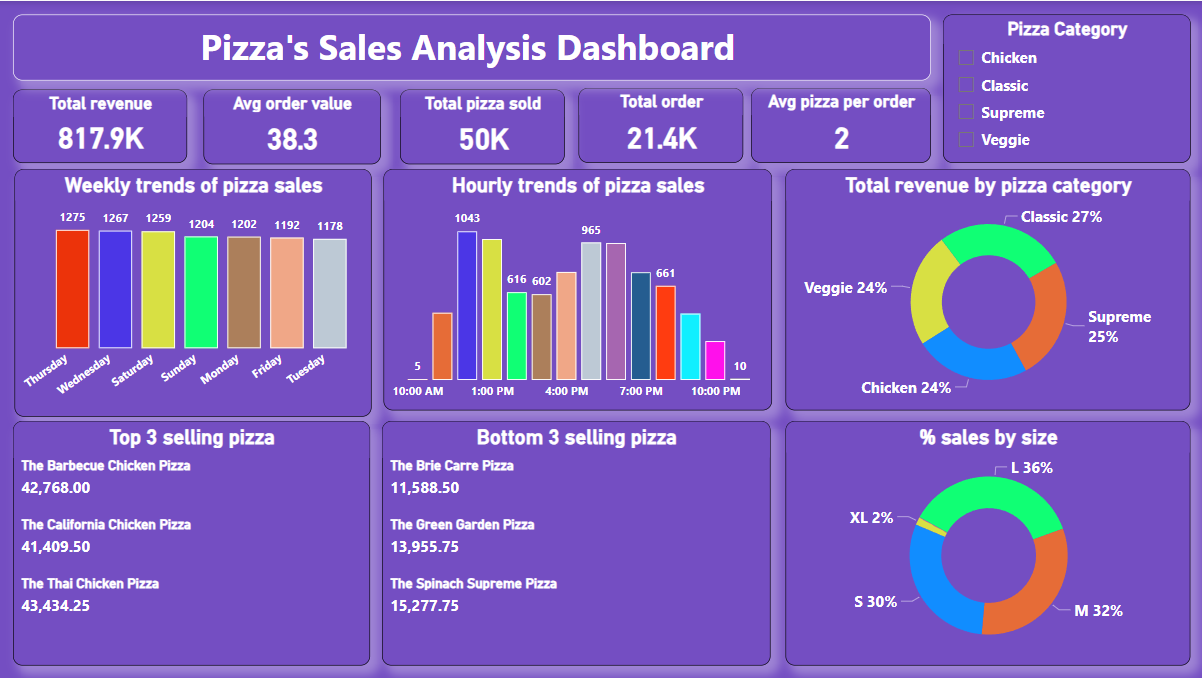

This screenshot's page, from the dashboard's own definition file:
{"tool":"powerbi","page":{"name":"Page 1","canvas":[1280,720],"ordinal":0},"visuals":[{"type":"card","title":"Total revenue","fields":{"Values":["Measures (2).Total_Revenue"]},"box":[15.9,93.8,184.5,77.9],"z":0},{"type":"card","title":"Total order","fields":{"Values":["Measures (2).Total_order"]},"box":[615.6,92.3,175,79.5],"z":1000},{"type":"card","title":"Avg order value","fields":{"Values":["Measures (2).Avg_order_values"]},"box":[217.9,93.8,187.7,79.5],"z":2000},{"type":"card","title":"Total pizza sold","fields":{"Values":["Measures (2).Total_pizza_sold"]},"box":[426.3,93.8,175,79.5],"z":3000},{"type":"card","title":"Avg pizza per order","fields":{"Values":["Measures (2).Avg_pizza_per_order"]},"box":[798.5,92.3,190.9,79.5],"z":4000},{"type":"textbox","box":[15.9,14.3,973.5,70],"z":5000},{"type":"slicer","title":"Pizza Category","fields":{"Values":["pizza_sales.pizza_category"]},"box":[1002.1,14.3,262.5,157.5],"z":6000},{"type":"columnChart","title":"Weekly trends of pizza sales","fields":{"Category":["pizza_sales.Day Name"],"Y":["Measures (2).Total_order"]},"box":[17.5,178.1,378.6,262.5],"z":7000},{"type":"columnChart","title":"Hourly trends of pizza sales","fields":{"Y":["Measures (2).Total_order"],"Category":["pizza_sales.Start of Hour"]},"box":[408.8,178.1,412,256.1],"z":8000},{"type":"donutChart","title":"Total revenue by pizza category","fields":{"Category":["pizza_sales.pizza_category"],"Y":["Measures (2).Total_Revenue"]},"box":[835.1,178.1,429.5,256.1],"z":9000},{"type":"multiRowCard","title":"Top 3 selling pizza","fields":{"Values":["pizza_sales.pizza_name","Measures (2).Total_Revenue"]},"box":[15.9,445.4,378.6,259.3],"z":10000},{"type":"multiRowCard","title":"Bottom 3 selling pizza","fields":{"Values":["pizza_sales.pizza_name","Measures (2).Total_Revenue"]},"box":[407.2,445.4,412,259.3],"z":11000},{"type":"donutChart","title":"% sales by size","fields":{"Y":["Measures (2).Total_order"],"Category":["pizza_sales.pizza_size"]},"box":[835.1,445.4,429.5,259.3],"z":12000}]}

Visuals, with their boxes in screenshot pixels (x1, y1, x2, y2), scaled from the page's 1280x720 canvas onto the 1202x678 screenshot:
"Total revenue" card: <box>15,88,188,162</box>
"Total order" card: <box>578,87,742,162</box>
"Avg order value" card: <box>205,88,381,163</box>
"Total pizza sold" card: <box>400,88,565,163</box>
"Avg pizza per order" card: <box>750,87,929,162</box>
textbox: <box>15,13,929,79</box>
"Pizza Category" slicer: <box>941,13,1188,162</box>
"Weekly trends of pizza sales" columnChart: <box>16,168,372,415</box>
"Hourly trends of pizza sales" columnChart: <box>384,168,771,409</box>
"Total revenue by pizza category" donutChart: <box>784,168,1188,409</box>
"Top 3 selling pizza" multiRowCard: <box>15,419,370,664</box>
"Bottom 3 selling pizza" multiRowCard: <box>382,419,769,664</box>
"% sales by size" donutChart: <box>784,419,1188,664</box>
